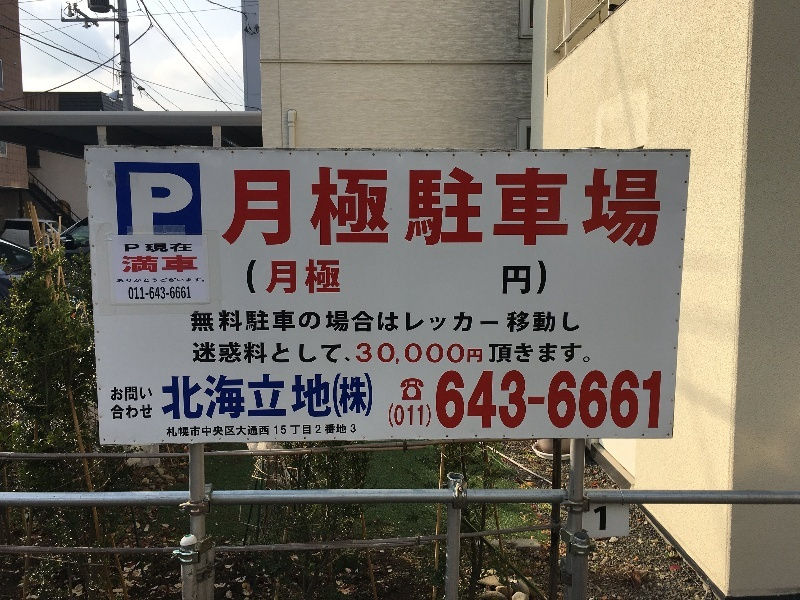text: (241, 163, 256, 253), (257, 163, 272, 253), (273, 163, 288, 253), (289, 163, 304, 253), (305, 163, 320, 253), (321, 163, 336, 253), (337, 163, 352, 253), (353, 163, 368, 253), (369, 163, 384, 253), (385, 163, 400, 253), (401, 163, 416, 253), (417, 163, 432, 253), (433, 163, 448, 253), (449, 163, 464, 253), (465, 163, 480, 253), (481, 163, 496, 253), (497, 163, 512, 253), (513, 163, 528, 253), (529, 163, 544, 253), (545, 163, 560, 253), (561, 163, 576, 253), (577, 163, 592, 253), (593, 163, 608, 253), (609, 163, 624, 253), (625, 163, 640, 253), (641, 163, 656, 253), (129, 172, 144, 238), (145, 172, 160, 238), (161, 172, 176, 238), (177, 172, 192, 238), (229, 163, 240, 253), (449, 368, 464, 432), (465, 368, 480, 432), (481, 368, 496, 432), (497, 368, 512, 432), (513, 368, 528, 432), (529, 368, 544, 432), (545, 368, 560, 432), (561, 368, 576, 432), (577, 368, 592, 432), (593, 368, 608, 432), (609, 368, 624, 432), (625, 368, 640, 432), (641, 368, 656, 432), (657, 163, 667, 253), (434, 368, 448, 432), (161, 372, 176, 423), (177, 372, 192, 423), (193, 372, 208, 423), (209, 372, 224, 423), (225, 372, 240, 423), (241, 372, 256, 423), (257, 372, 272, 423), (273, 372, 288, 423), (289, 372, 304, 423), (305, 372, 320, 423), (321, 372, 336, 423), (337, 372, 352, 423), (353, 372, 368, 423), (513, 259, 528, 298), (529, 259, 544, 298), (257, 258, 272, 296), (273, 258, 288, 296), (289, 258, 304, 296), (305, 258, 320, 296), (321, 258, 336, 296), (417, 402, 433, 430), (337, 339, 353, 366), (401, 402, 416, 430), (193, 339, 208, 366), (209, 339, 224, 366), (225, 339, 240, 366), (241, 339, 256, 366), (257, 339, 272, 366), (273, 339, 288, 366), (289, 339, 304, 366), (305, 339, 320, 366), (321, 339, 336, 366), (502, 259, 512, 298), (369, 340, 384, 366), (385, 340, 400, 366), (401, 340, 416, 366), (417, 340, 432, 366), (433, 340, 448, 366), (449, 340, 464, 366), (465, 340, 480, 366), (481, 340, 496, 366), (497, 340, 512, 366), (513, 340, 528, 366), (529, 340, 544, 366), (545, 340, 560, 366), (561, 340, 576, 366), (657, 368, 663, 432), (246, 258, 256, 296), (577, 340, 591, 366), (193, 310, 208, 334), (209, 310, 224, 334), (225, 310, 240, 334), (241, 310, 256, 334), (257, 310, 272, 334), (273, 310, 288, 334), (289, 310, 304, 334), (305, 310, 320, 334), (321, 310, 336, 334), (337, 310, 352, 334), (353, 310, 368, 334), (369, 310, 384, 334), (385, 310, 400, 334), (401, 310, 416, 334), (417, 310, 432, 334), (433, 310, 448, 334), (449, 310, 464, 334), (465, 310, 480, 334), (481, 310, 496, 334), (497, 310, 512, 334), (513, 310, 528, 334), (529, 310, 544, 334), (545, 310, 560, 334), (561, 310, 576, 334), (355, 340, 368, 366), (388, 402, 400, 430), (129, 254, 144, 276), (145, 254, 160, 276), (161, 254, 176, 276), (177, 254, 192, 276), (113, 402, 128, 423), (129, 402, 144, 423), (113, 385, 128, 404), (129, 385, 144, 404), (177, 422, 192, 440), (193, 422, 208, 440), (209, 422, 224, 440), (225, 422, 240, 440), (241, 422, 256, 440), (257, 422, 272, 440), (273, 422, 288, 440), (289, 422, 304, 440), (305, 422, 320, 440), (321, 422, 336, 440), (337, 422, 352, 440), (369, 372, 374, 423), (129, 286, 144, 301), (145, 286, 160, 301), (161, 286, 176, 301), (177, 286, 192, 301), (165, 422, 176, 440), (337, 258, 342, 296), (145, 242, 160, 254), (161, 242, 176, 254), (177, 242, 192, 254), (145, 402, 153, 423), (121, 254, 128, 276), (193, 254, 200, 276), (145, 385, 153, 404), (193, 172, 195, 238), (129, 243, 140, 254), (577, 310, 582, 334), (545, 259, 548, 298), (129, 278, 144, 284), (145, 278, 160, 284), (161, 278, 176, 284), (177, 278, 192, 284), (353, 422, 358, 440), (116, 278, 128, 284), (193, 278, 205, 284), (189, 310, 192, 334), (124, 243, 128, 254), (111, 402, 112, 423), (111, 385, 112, 404), (193, 242, 194, 254)
